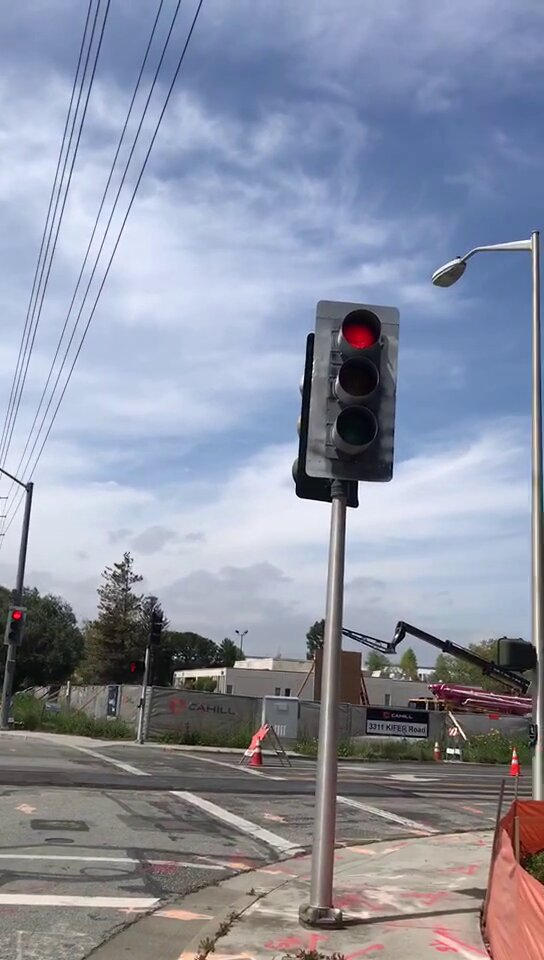red_light: (316, 305, 391, 476), (8, 606, 24, 644)
